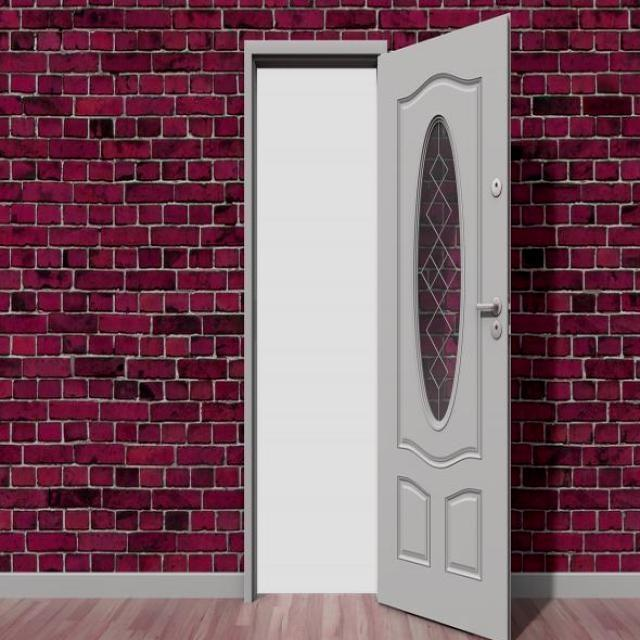door: (375, 11, 511, 639)
